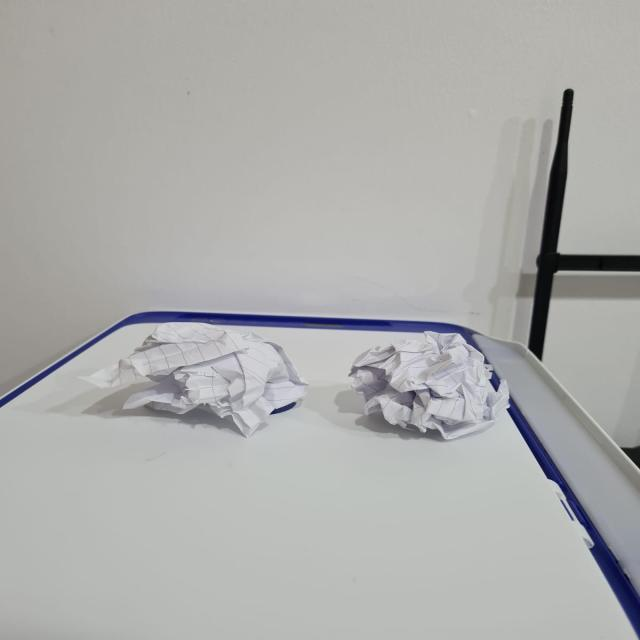cardboard paper: (84, 322, 303, 435), (349, 331, 507, 438)
